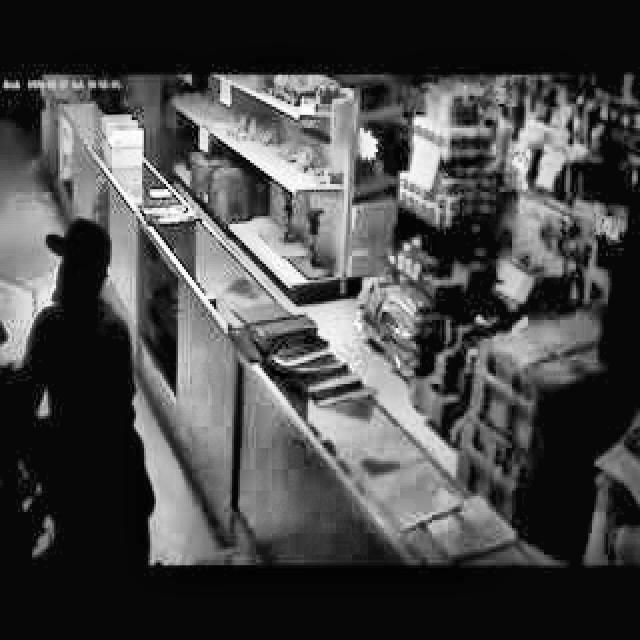burglary: (0, 218, 164, 565)
